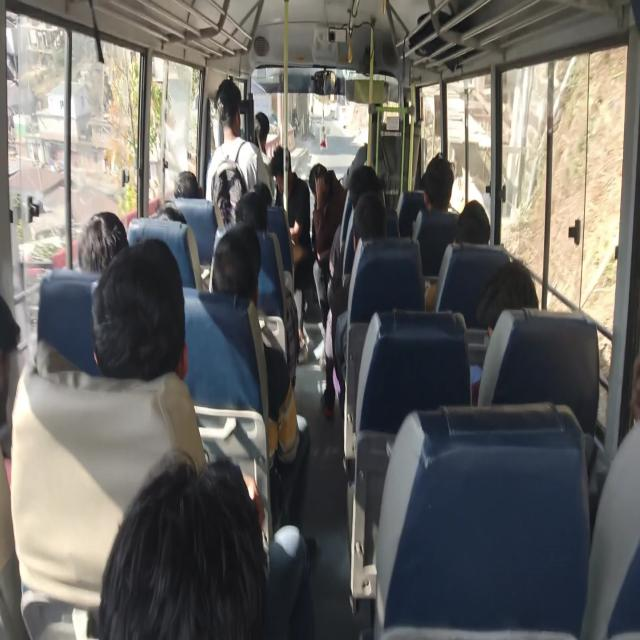person: (10, 237, 207, 637), (98, 448, 308, 639), (210, 222, 310, 530), (90, 237, 207, 474), (580, 352, 640, 638), (331, 191, 387, 418), (470, 258, 539, 406), (205, 78, 258, 226), (424, 199, 491, 311), (412, 152, 459, 278), (269, 145, 311, 264), (309, 162, 346, 270), (77, 210, 129, 275), (250, 111, 275, 204), (420, 152, 454, 212), (454, 199, 491, 245), (174, 170, 202, 199), (253, 110, 269, 158)
